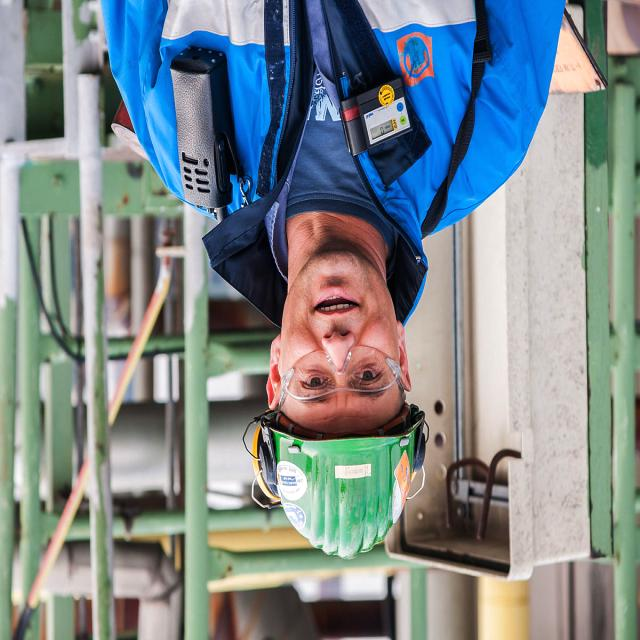Hard Hat: (252, 401, 436, 561)
Safety Glasses: (267, 349, 413, 419)
